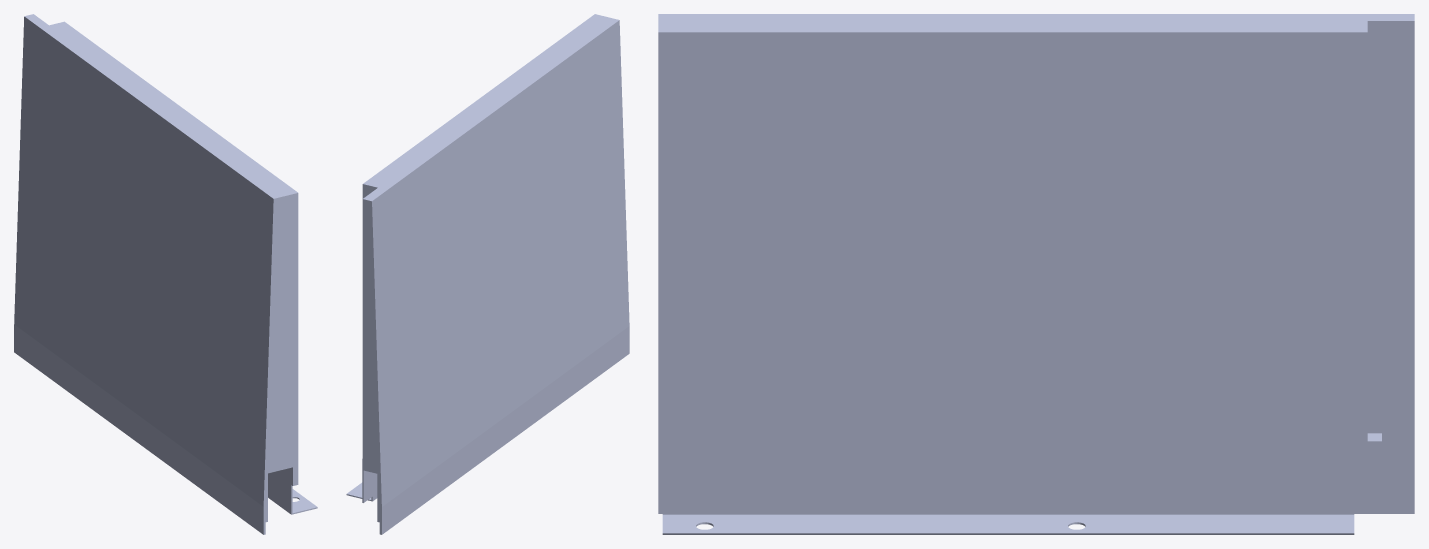
Rendered from mv-kava-E270-p.glb.
3 renders of one model, left to right at view 1: azimuth 30°, elevation 25°; view 2: azimuth 150°, elevation 25°; view 3: azimuth 270°, elevation 25°, orthographic. The views are drawn at different scales.
Parts seen in each view (by area): view 1: 41094836; view 2: 41094836; view 3: 41094836.
Part boxes in pixels (box(x1,y1,x2,y2)): 41094836: box(14, 14, 317, 534); 41094836: box(346, 14, 629, 534); 41094836: box(658, 14, 1414, 534).
Size of the model in its own units: 0.0335 by 0.192 by 0.2602.
